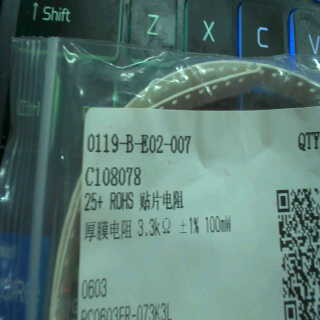3.3kO: (133, 214, 176, 241)
